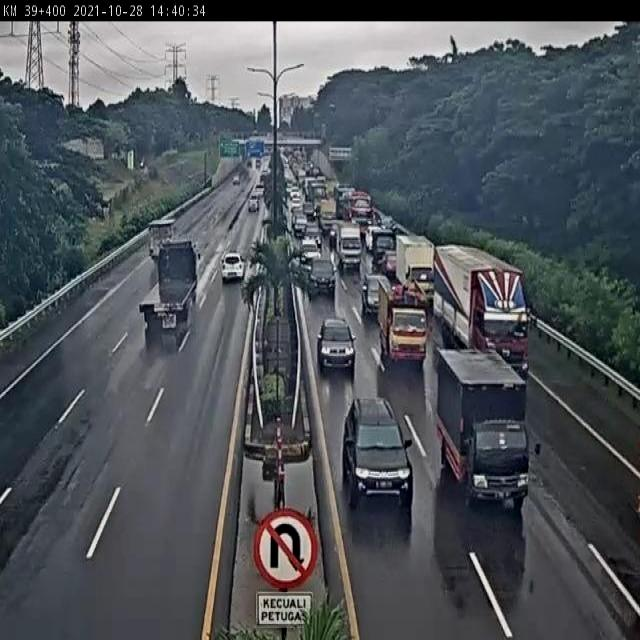Car: (343, 394, 417, 506), (318, 314, 358, 380), (306, 258, 338, 296), (219, 253, 248, 287), (362, 274, 388, 310), (300, 240, 326, 262), (301, 225, 323, 246), (366, 225, 379, 250), (247, 192, 260, 212), (290, 185, 302, 200)
Truck: (435, 344, 537, 507), (433, 240, 530, 368), (138, 240, 202, 326), (378, 287, 430, 365), (396, 234, 436, 296), (334, 223, 364, 273), (373, 228, 398, 276), (148, 220, 176, 258), (318, 196, 342, 236)
